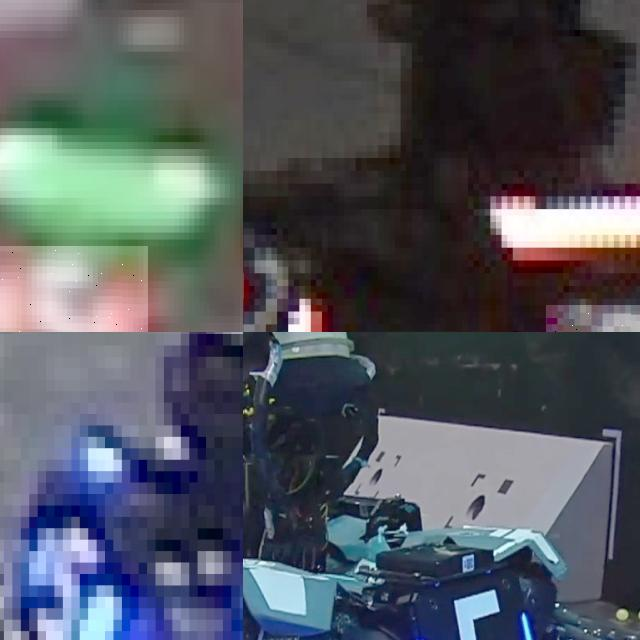B5: (12, 505, 121, 640), (409, 588, 536, 640)
R2: (243, 247, 322, 332)
R5: (0, 246, 148, 332)
